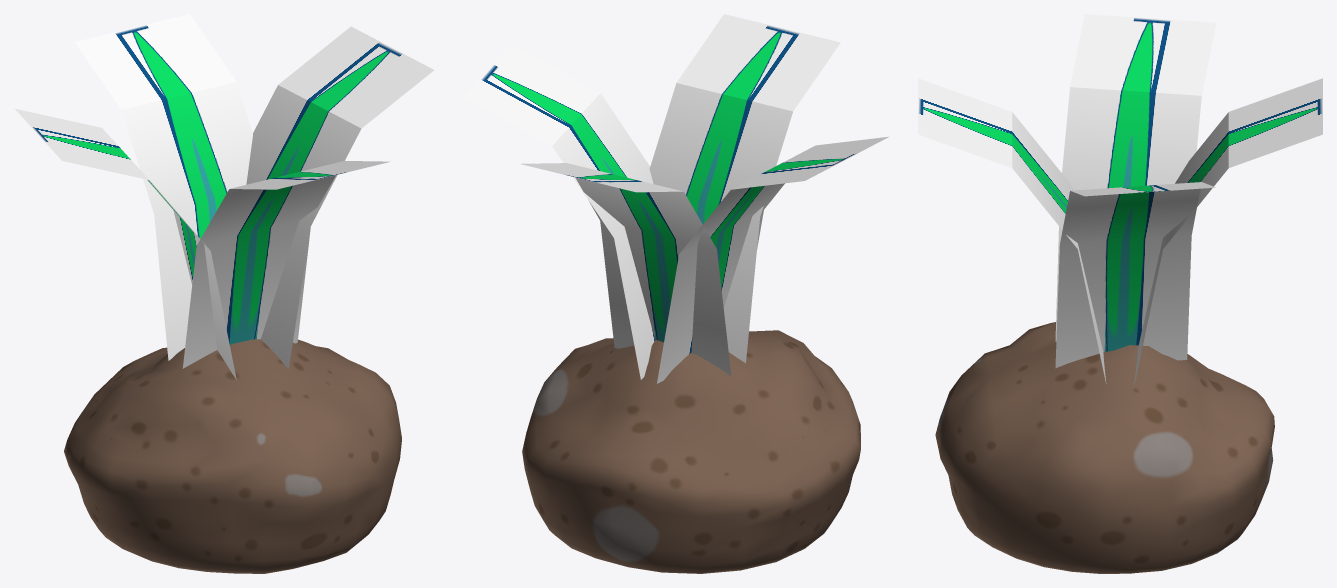
The model's file is dirt2_grassblades.fbx.
3 views of the same model, side by side, from view 1: azimuth 30°, elevation 25°; view 2: azimuth 150°, elevation 25°; view 3: azimuth 270°, elevation 25° (orthographic).
Visible parts, largest first — view 1: clumpone_low, grassblade, grassblade1; view 2: clumpone_low, grassblade, grassblade1; view 3: clumpone_low, grassblade1, grassblade.
Boxes of the visible parts, bbox=[...] form: clumpone_low: bbox=[64, 339, 401, 573]; grassblade: bbox=[75, 14, 390, 368]; grassblade1: bbox=[15, 26, 434, 380]; clumpone_low: bbox=[522, 330, 860, 573]; grassblade: bbox=[521, 14, 840, 375]; grassblade1: bbox=[463, 44, 888, 383]; clumpone_low: bbox=[935, 322, 1274, 573]; grassblade1: bbox=[1055, 14, 1216, 368]; grassblade: bbox=[918, 78, 1322, 383].
Size of the model in its own units: 1.44 by 1.52 by 1.35.
2 materials, 2 textured.
